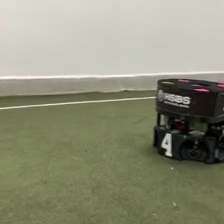robot: (152, 75, 224, 166)
